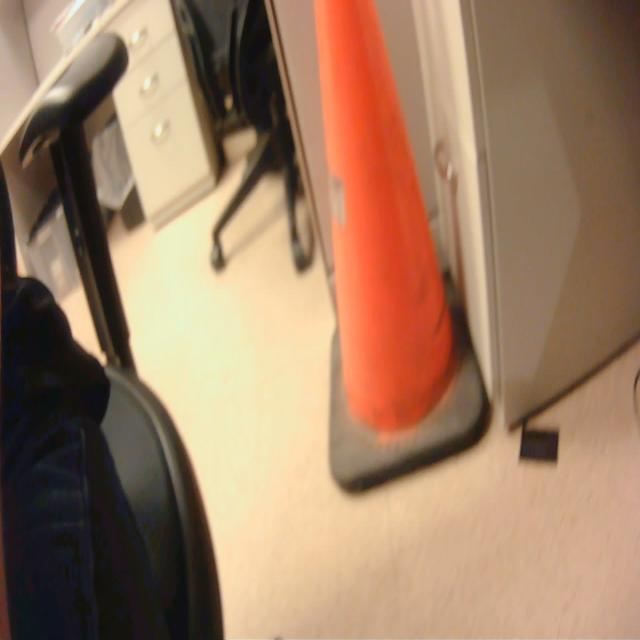traffic cone: (309, 3, 500, 506)
